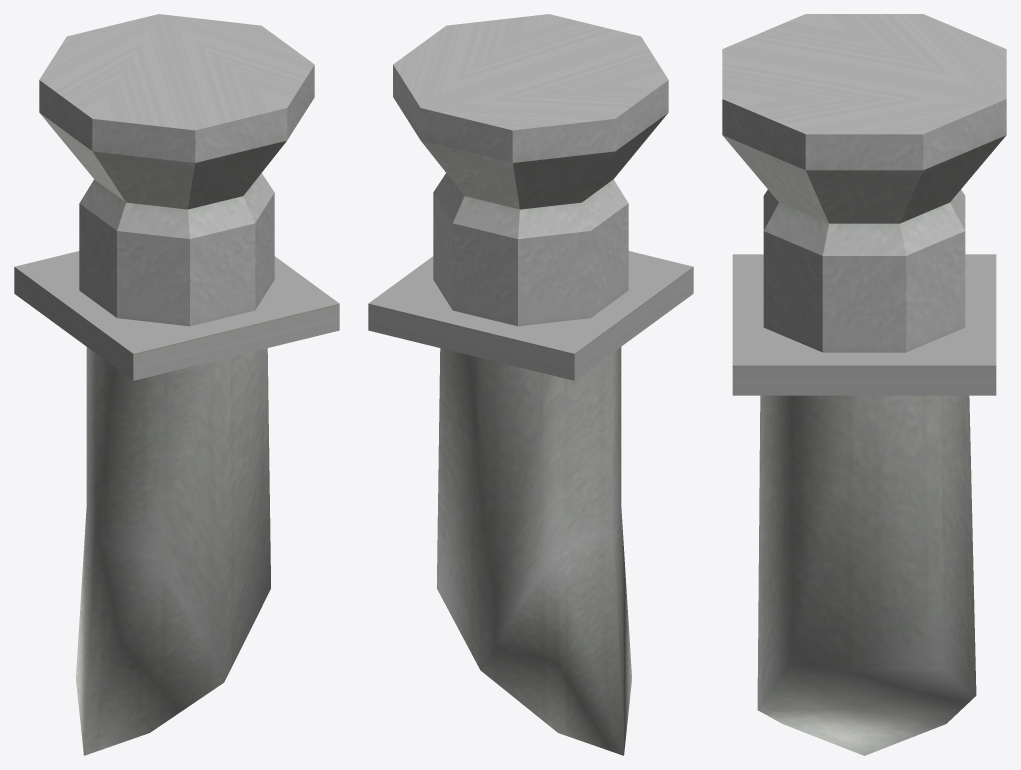
The model's file is general_obj_bigtower02_lod_01.fbx.
The picture shows the model from 3 angles, left to right: view 1: azimuth 30°, elevation 25°; view 2: azimuth 150°, elevation 25°; view 3: azimuth 270°, elevation 25°; orthographic projection. The views are drawn at different scales.
Parts seen in each view (by area): view 1: Sphere01; view 2: Sphere01; view 3: Sphere01.
Part boxes in pixels (x1,y1,x2,y2): Sphere01: (14,14,339,755); Sphere01: (368,14,693,755); Sphere01: (722,14,1006,755).
Size of the model in its own units: 4.31 by 12.25 by 4.31.
